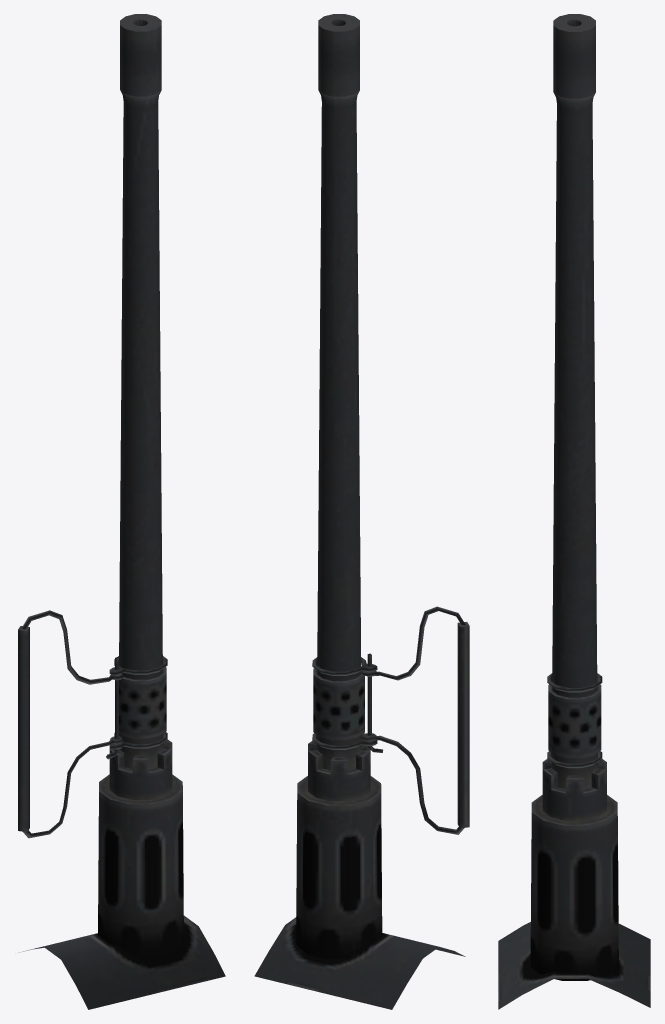
Rendered from Gun_01.glb.
3 renders of one model, left to right at view 1: azimuth 30°, elevation 25°; view 2: azimuth 150°, elevation 25°; view 3: azimuth 270°, elevation 25°, orthographic. The views are drawn at different scales.
Visible parts, largest first — view 1: set_0_group_0; view 2: set_0_group_0; view 3: set_0_group_0.
Boxes of the visible parts, x1,y1,x2,y2 form: set_0_group_0: (18, 14, 225, 1009); set_0_group_0: (254, 14, 469, 1009); set_0_group_0: (498, 14, 650, 1009).
Size of the model in its own units: 0.2023 by 1.04 by 0.1494.
Materials: 1 (1 with a texture image).
